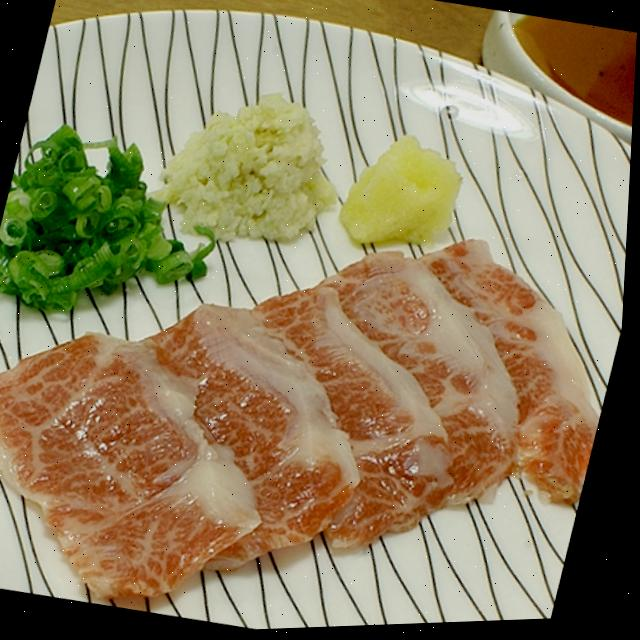刺身生食: (0, 127, 634, 640)
